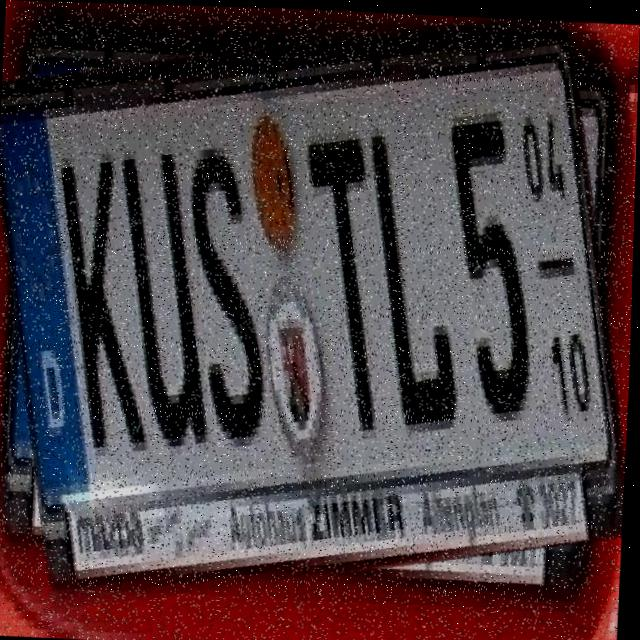LicensePlate: (0, 5, 638, 610)
